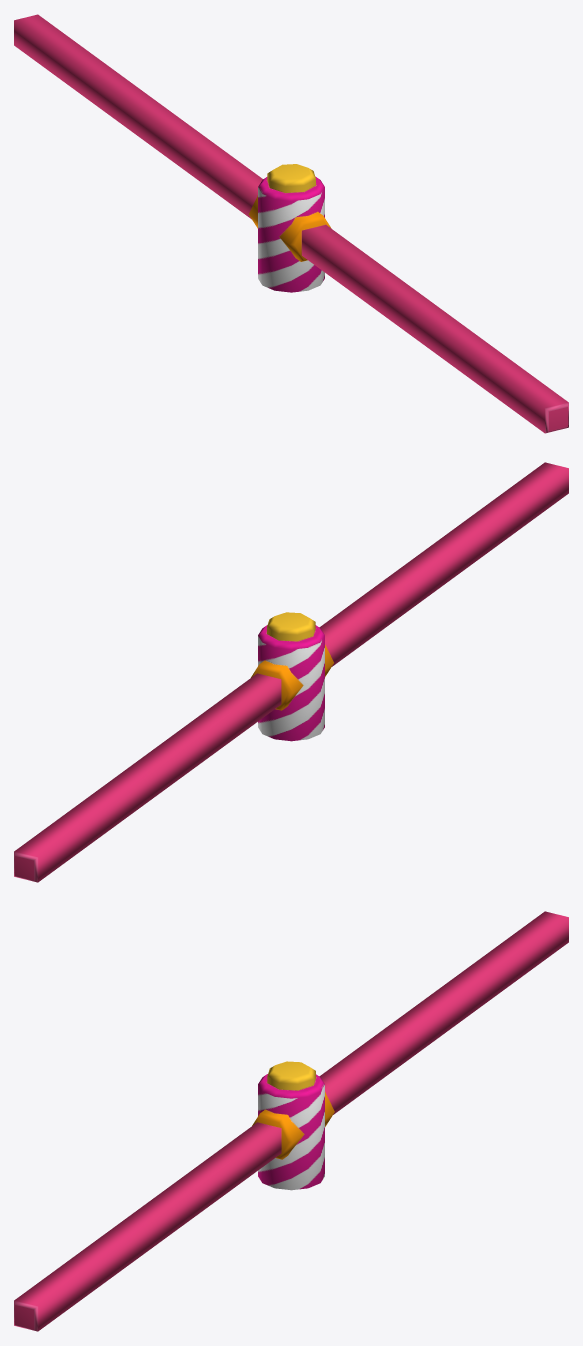
File: OBS0110076.fbx
The picture shows the model from 3 angles, top to bottom: view 1: azimuth 30°, elevation 25°; view 2: azimuth 150°, elevation 25°; view 3: azimuth 330°, elevation 25°; orthographic projection.
Visible parts, largest first — view 1: smOBS0110076; view 2: smOBS0110076; view 3: smOBS0110076.
Part boxes in pixels (left/top/right/bottom): smOBS0110076: left=14, top=14, right=568, bottom=433; smOBS0110076: left=14, top=462, right=568, bottom=882; smOBS0110076: left=14, top=911, right=568, bottom=1331.
Size of the model in its own units: 65.37 by 115 by 1039.
1 material, 1 textured.
